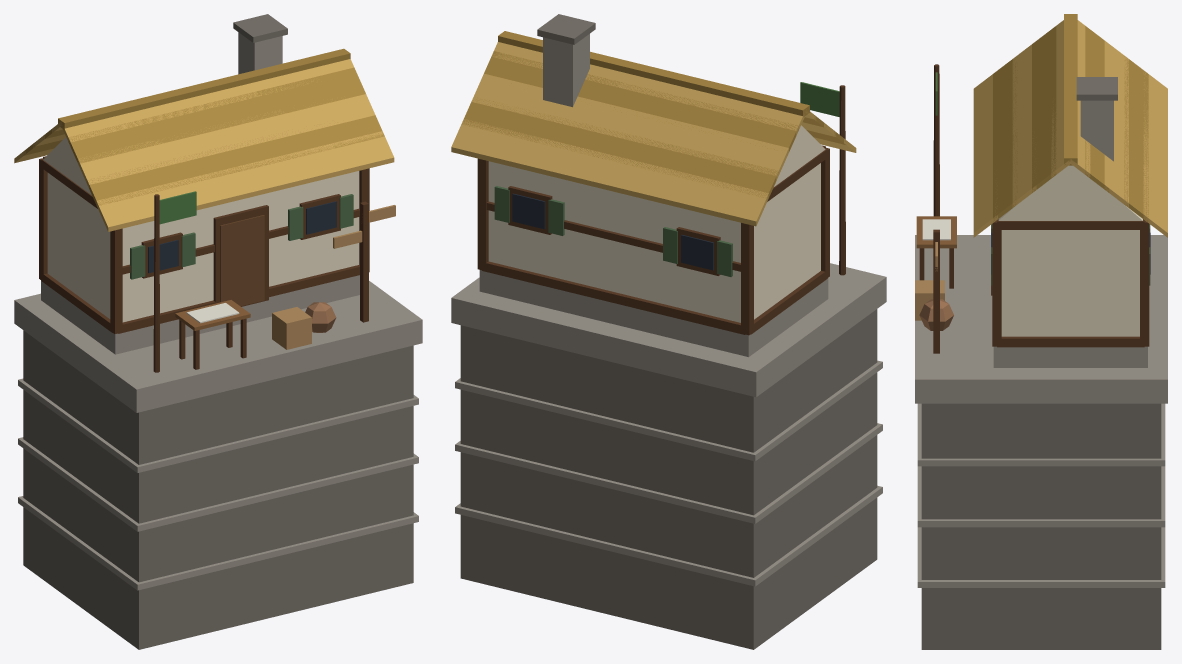
Rendered from explorer.glb.
3 renders of one model, left to right at view 1: azimuth 30°, elevation 25°; view 2: azimuth 150°, elevation 25°; view 3: azimuth 270°, elevation 25°, orthographic. The views are drawn at different scales.
Parts seen in each view (by area): view 1: explorer; view 2: explorer; view 3: explorer.
Boxes of the visible parts, box(x1,y1,x2,y2) form: explorer: box(14, 14, 422, 649); explorer: box(451, 14, 886, 649); explorer: box(915, 14, 1167, 649).
Size of the model in its own units: 5.1 by 8.72 by 3.78.
